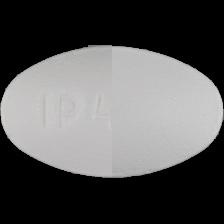53808-0436: (0, 0, 224, 224)
